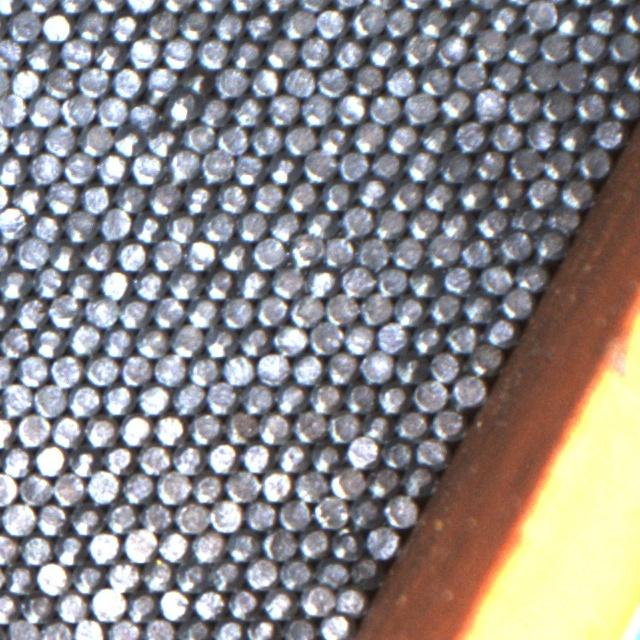tool: (104, 499, 138, 534), (244, 554, 278, 589), (120, 469, 154, 504), (122, 527, 156, 562), (412, 377, 447, 411), (312, 494, 347, 528), (330, 463, 364, 498), (508, 146, 542, 180), (208, 498, 242, 532), (324, 349, 358, 383), (69, 502, 103, 536), (300, 582, 334, 616), (156, 469, 190, 503), (308, 320, 342, 354), (170, 381, 204, 415), (136, 381, 170, 415), (226, 528, 260, 562), (308, 380, 342, 414), (1, 501, 35, 535), (523, 117, 557, 151), (404, 147, 438, 181), (67, 382, 101, 416), (454, 117, 488, 151), (262, 526, 296, 560), (225, 468, 259, 502), (148, 180, 182, 214), (541, 146, 575, 180), (558, 118, 592, 152), (144, 6, 178, 40), (119, 412, 153, 446), (84, 413, 118, 447), (48, 293, 82, 327), (191, 528, 225, 562), (15, 412, 49, 446), (261, 586, 295, 620), (50, 413, 84, 447), (224, 408, 258, 442), (278, 555, 312, 589), (347, 494, 381, 528), (58, 36, 92, 70), (90, 586, 124, 620), (270, 263, 304, 297), (451, 2, 485, 36), (290, 352, 324, 386), (292, 408, 326, 442), (392, 350, 426, 384), (383, 493, 417, 527), (314, 555, 348, 589), (140, 500, 174, 534), (85, 352, 118, 387), (496, 228, 531, 261), (132, 267, 165, 301), (297, 525, 330, 559), (452, 373, 486, 406), (221, 352, 254, 386), (272, 322, 306, 355), (102, 382, 135, 416), (157, 528, 190, 562), (386, 120, 419, 154), (60, 92, 93, 126), (283, 122, 317, 155), (357, 234, 390, 268), (525, 175, 559, 208), (18, 533, 52, 566), (200, 148, 233, 182), (106, 558, 139, 592), (360, 348, 393, 382), (182, 118, 215, 152), (577, 145, 611, 178), (278, 497, 311, 531), (429, 348, 462, 382), (258, 411, 292, 444), (330, 526, 363, 560), (438, 148, 471, 182), (185, 295, 218, 329), (538, 28, 571, 62), (422, 178, 456, 211), (524, 57, 557, 91), (50, 353, 83, 387), (556, 59, 590, 92), (489, 118, 522, 152), (472, 147, 506, 180), (7, 66, 41, 99), (201, 208, 234, 242), (326, 409, 360, 442), (373, 205, 406, 239), (233, 151, 266, 185), (188, 410, 221, 444), (359, 290, 392, 324), (259, 467, 292, 501), (19, 590, 53, 623), (410, 320, 443, 354), (17, 472, 51, 505), (351, 3, 384, 37), (44, 180, 78, 213), (208, 557, 241, 591), (273, 381, 307, 414), (402, 32, 436, 65), (225, 585, 259, 618), (26, 93, 59, 127), (187, 353, 220, 387), (431, 406, 465, 439), (243, 497, 277, 530), (388, 178, 422, 211), (288, 293, 322, 326), (344, 435, 378, 468), (339, 204, 372, 238), (426, 233, 460, 266), (32, 264, 65, 298), (472, 86, 505, 120), (33, 442, 67, 475), (303, 207, 337, 240), (62, 150, 95, 184), (87, 528, 120, 562), (478, 261, 512, 294), (127, 35, 161, 68), (343, 380, 377, 413), (491, 175, 524, 209), (540, 88, 574, 121), (294, 468, 327, 502), (268, 208, 301, 242), (136, 441, 170, 474), (124, 588, 157, 622), (442, 262, 476, 295), (416, 3, 449, 37), (394, 407, 428, 440), (267, 151, 301, 184), (342, 321, 376, 354), (351, 62, 384, 96), (574, 88, 608, 121), (366, 524, 399, 558), (514, 259, 548, 292), (69, 560, 104, 592), (170, 324, 203, 357), (154, 412, 187, 445), (33, 382, 66, 415), (119, 353, 152, 386), (383, 4, 416, 37), (130, 151, 163, 184), (220, 295, 253, 328), (205, 380, 238, 413), (44, 122, 77, 155), (235, 267, 268, 300), (336, 148, 369, 181), (256, 352, 289, 385), (28, 151, 61, 184), (489, 58, 522, 91), (231, 93, 264, 126), (454, 58, 487, 91), (285, 179, 318, 212), (457, 177, 490, 210), (573, 29, 606, 62), (79, 181, 112, 214), (251, 180, 284, 213), (607, 29, 640, 62), (355, 175, 388, 208), (302, 148, 335, 181), (320, 177, 353, 210), (300, 92, 333, 125), (53, 533, 86, 566), (376, 380, 409, 413), (247, 65, 280, 98), (487, 1, 520, 34), (324, 292, 357, 325), (35, 502, 68, 535), (460, 235, 493, 268), (590, 59, 623, 92), (472, 28, 505, 61), (288, 234, 321, 267), (420, 119, 453, 152), (16, 353, 49, 386), (476, 205, 509, 238), (298, 34, 331, 67), (75, 9, 108, 42), (63, 209, 96, 242), (505, 29, 538, 62), (150, 295, 183, 328), (239, 381, 272, 414), (391, 235, 424, 268), (196, 36, 229, 69), (587, 1, 620, 34), (151, 237, 184, 270), (275, 439, 308, 472), (366, 34, 399, 67), (167, 267, 200, 300), (0, 444, 33, 477), (140, 557, 173, 590), (240, 439, 273, 472), (15, 235, 48, 268), (218, 237, 251, 270), (438, 87, 471, 120), (166, 148, 199, 181), (554, 3, 587, 36), (506, 88, 539, 121), (172, 442, 205, 475), (401, 463, 434, 496), (163, 93, 196, 126), (365, 464, 398, 497), (418, 62, 451, 95), (367, 92, 400, 125), (428, 290, 461, 323), (176, 499, 208, 533), (34, 325, 66, 359), (80, 122, 112, 156), (204, 324, 236, 358), (282, 6, 314, 40), (136, 324, 168, 358), (36, 560, 68, 594), (84, 294, 118, 326), (52, 471, 84, 505), (0, 382, 32, 416), (282, 64, 316, 96), (314, 6, 346, 40), (332, 36, 366, 68), (322, 234, 354, 268), (85, 470, 119, 502), (246, 8, 278, 42), (308, 440, 342, 472), (98, 208, 132, 240), (174, 558, 206, 592), (407, 264, 441, 296), (392, 292, 424, 326), (24, 38, 58, 70), (306, 264, 338, 298), (414, 435, 448, 467), (439, 208, 473, 240), (68, 322, 100, 355), (95, 94, 127, 127), (158, 586, 190, 619), (352, 120, 385, 152), (212, 9, 245, 41), (55, 589, 87, 622), (406, 206, 439, 238), (334, 92, 366, 125), (237, 324, 270, 356), (198, 95, 230, 128), (0, 325, 32, 358), (154, 352, 186, 385), (100, 267, 132, 300), (250, 122, 282, 155), (376, 320, 408, 353), (95, 152, 128, 184), (370, 148, 403, 180), (144, 66, 176, 99), (128, 97, 160, 130), (102, 324, 134, 357), (117, 296, 150, 328), (436, 33, 468, 66), (77, 65, 109, 98), (110, 65, 142, 98), (235, 209, 268, 241), (29, 210, 62, 242), (510, 202, 543, 234), (4, 563, 36, 596), (384, 64, 417, 96), (403, 91, 436, 123), (206, 440, 238, 473), (533, 228, 565, 261), (41, 9, 73, 42), (161, 36, 194, 68), (109, 10, 142, 42), (15, 296, 48, 328), (182, 182, 215, 214), (216, 123, 249, 155), (66, 268, 99, 300), (184, 238, 217, 270), (374, 264, 407, 296), (230, 37, 262, 70), (561, 175, 593, 208), (203, 266, 235, 299), (180, 64, 213, 96), (264, 36, 297, 68), (82, 238, 115, 270), (192, 586, 224, 619), (462, 289, 494, 322), (266, 92, 298, 125), (340, 264, 373, 296), (216, 180, 248, 213), (316, 65, 349, 97), (49, 239, 82, 271), (92, 39, 125, 71), (116, 237, 148, 270), (102, 442, 134, 475), (165, 210, 197, 243), (114, 180, 146, 213), (484, 314, 516, 347), (467, 342, 500, 374), (179, 8, 211, 40), (10, 124, 42, 156), (8, 9, 40, 41), (381, 437, 413, 469), (255, 294, 287, 326), (254, 236, 286, 268), (42, 66, 74, 98), (214, 66, 246, 98), (12, 182, 44, 214), (132, 212, 164, 244), (334, 585, 366, 617), (348, 552, 380, 584), (67, 445, 99, 477), (500, 286, 532, 318), (446, 319, 478, 351), (318, 124, 350, 156), (191, 470, 223, 502), (592, 116, 624, 148), (146, 125, 179, 156), (361, 412, 394, 443), (609, 85, 640, 118), (546, 202, 579, 233), (0, 266, 30, 300), (522, 0, 554, 31), (113, 125, 144, 157), (318, 611, 351, 640), (282, 613, 316, 640), (0, 207, 27, 240), (0, 92, 25, 126), (243, 615, 277, 640), (0, 154, 26, 186), (72, 616, 106, 640), (177, 616, 210, 640), (38, 617, 72, 640), (142, 616, 174, 640), (107, 617, 140, 640), (5, 617, 38, 640), (210, 617, 243, 640), (0, 36, 23, 69), (0, 530, 17, 564), (622, 0, 640, 32), (0, 592, 18, 624), (0, 471, 16, 505), (0, 414, 15, 448), (625, 56, 640, 90), (0, 354, 13, 388), (58, 0, 90, 13), (24, 0, 56, 13)
